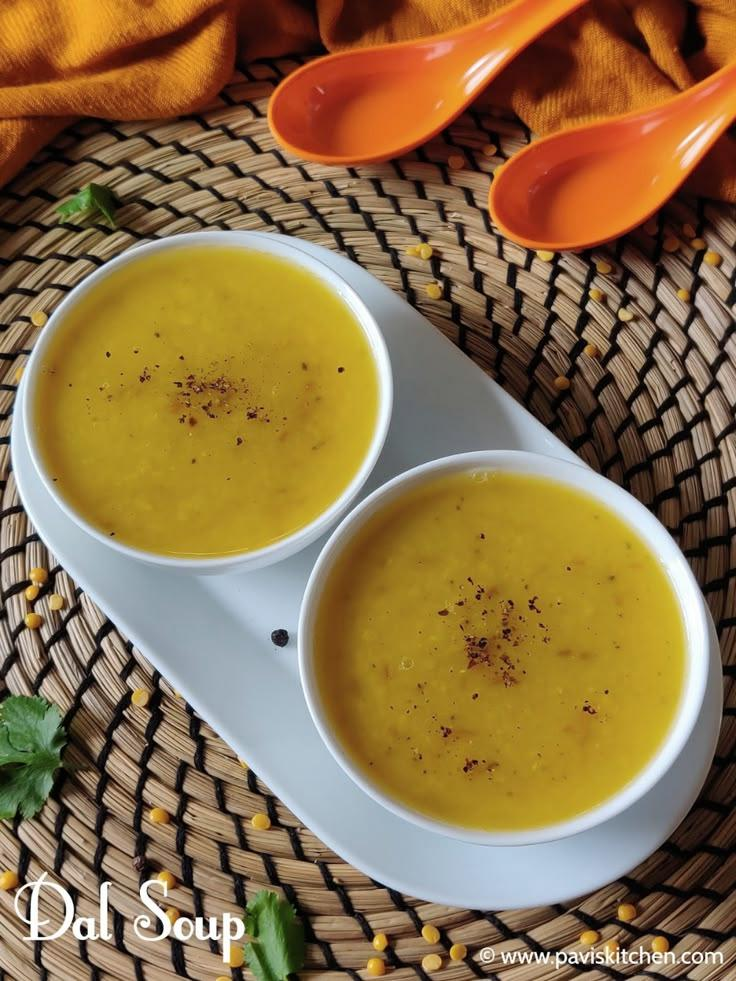daal: (363, 504, 676, 824), (58, 255, 380, 542)
